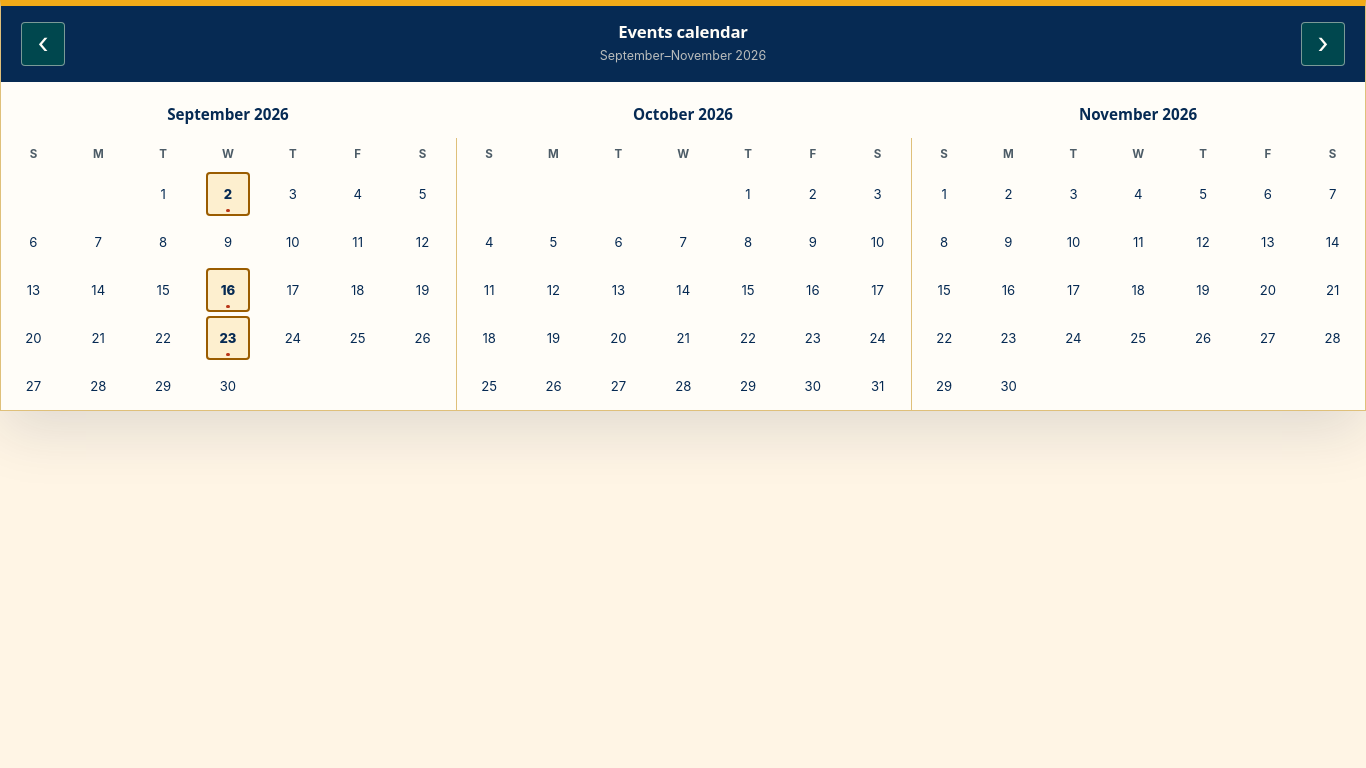
Test: public events experience › expands a series, omits its canceled date, and shows selected-day details
Check: the button named "September 2, 2026, 1 event" is shown, box [206,172,250,216]
Click the button named "September 16, 2026, 1 event" at (228, 290), box [206,268,250,312]
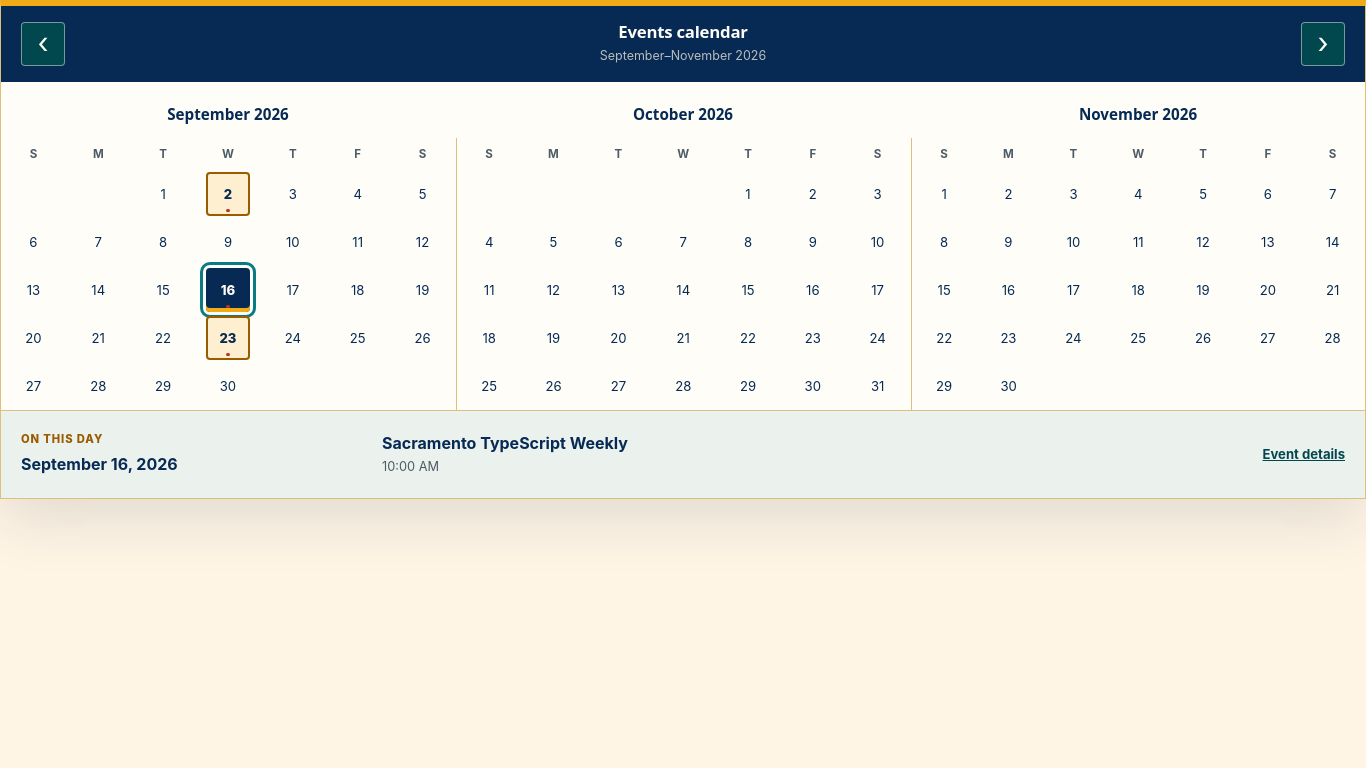
Check: the text "Sacramento TypeScript Weekly" is shown, box [382,431,628,457]
Check: the text "10:00 AM" is shown, box [382,459,439,474]
